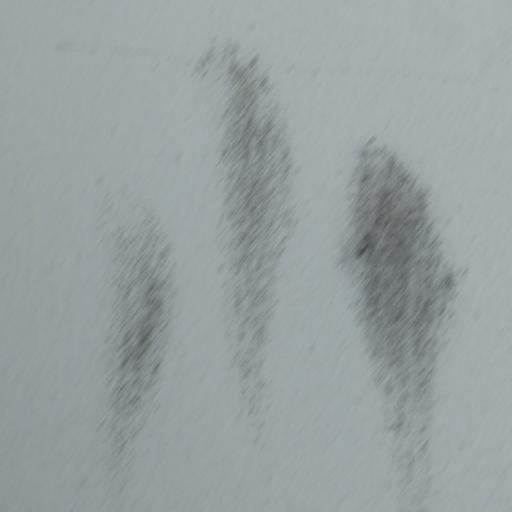stain: (326, 125, 471, 512), (186, 42, 324, 418), (85, 190, 184, 512)
